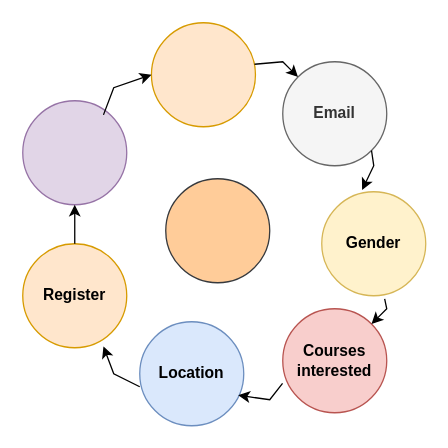
Some shapes in this 448 by 448 pixel diagram are drawn without their labels. Here are the shapes that lost their labels. From the top down, the centre of each, then its label:
At [202,74]: "Date of Birth".
At [74,152]: "Full Name".
At [217,230]: "Student Registration Form".
